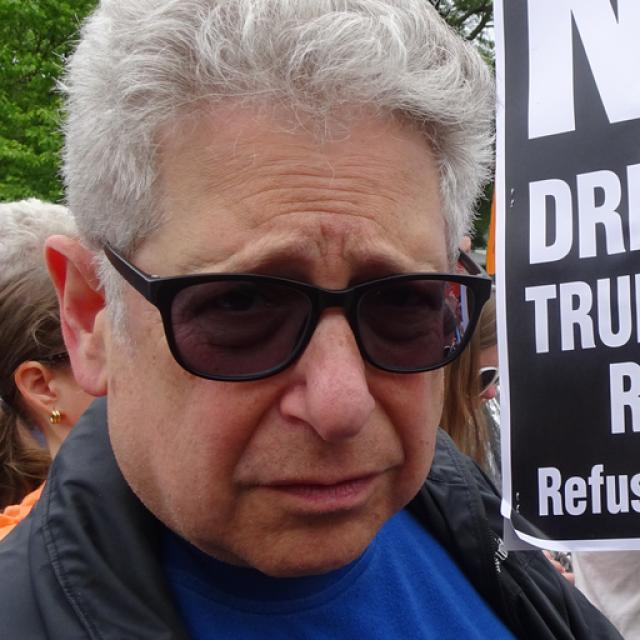Wrinkle: (253, 202, 389, 236), (237, 182, 408, 208), (272, 169, 371, 181)
